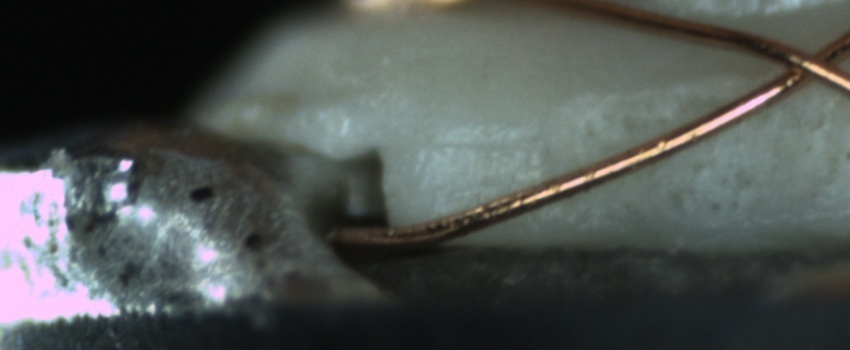CL: (757, 32, 848, 97)
DL: (411, 112, 543, 176)
